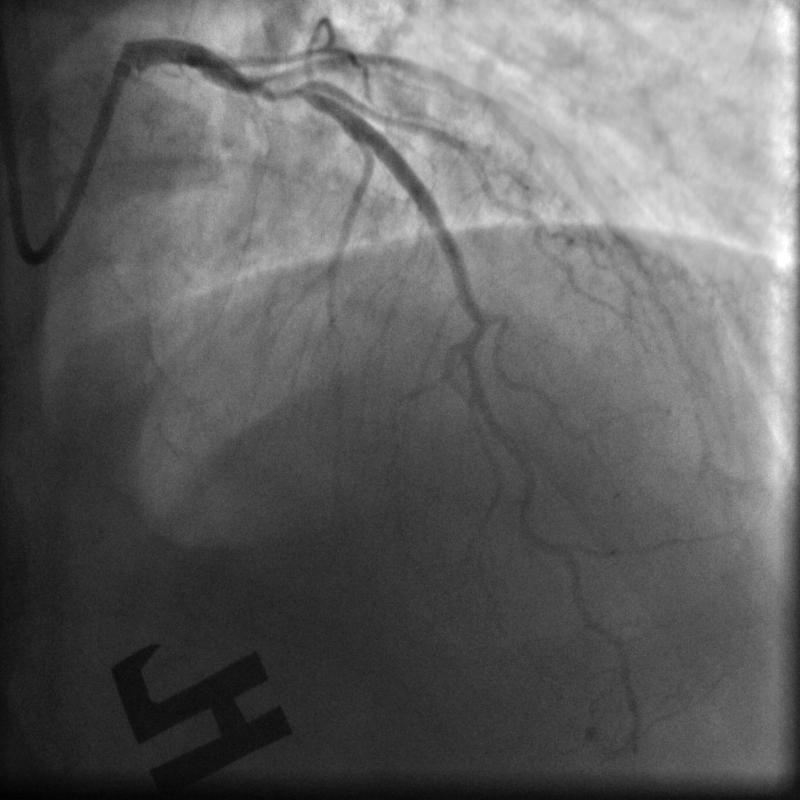Stenosis: (252, 76, 316, 104)
